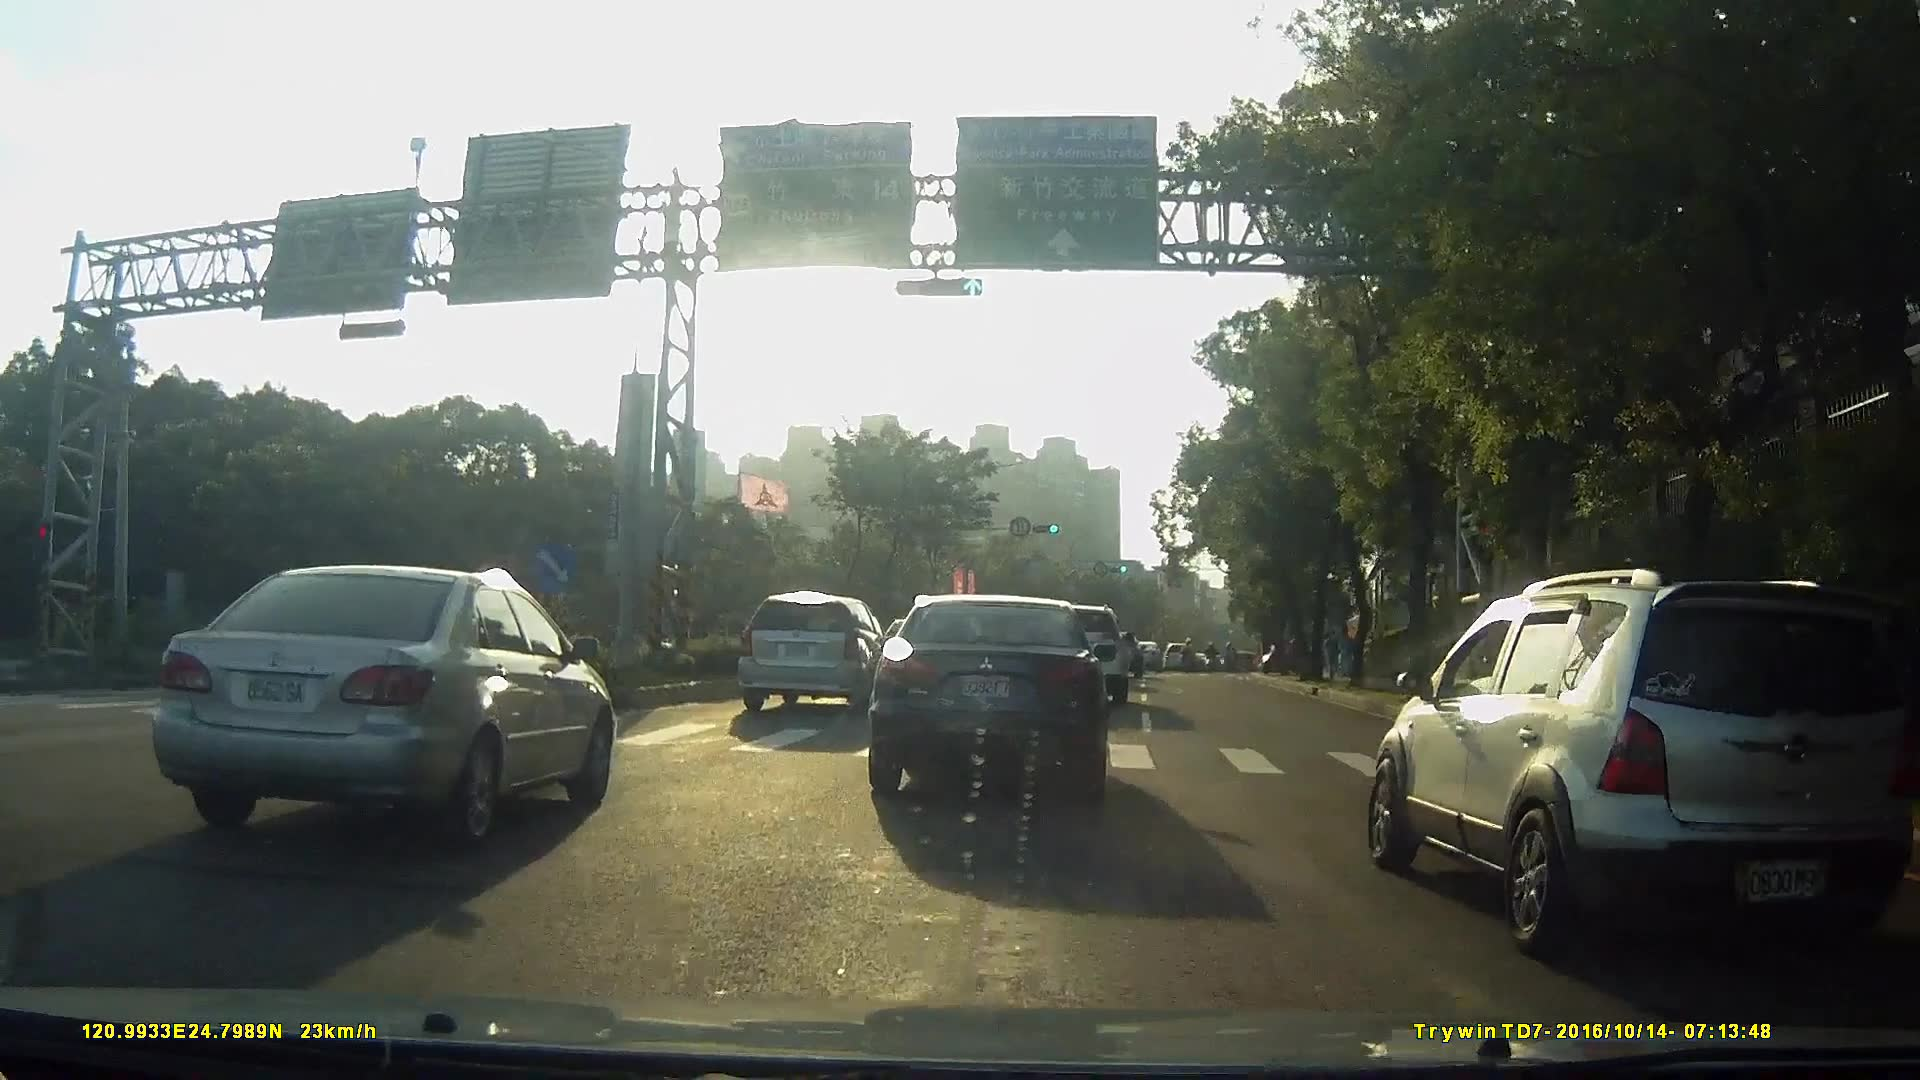vehicle: (1365, 568, 1888, 975), (127, 556, 632, 862), (858, 596, 1134, 812), (727, 591, 886, 717), (1124, 638, 1156, 669), (1153, 644, 1184, 673)
